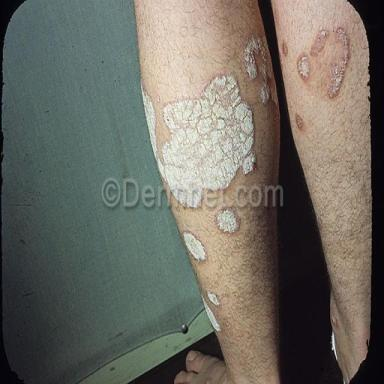Psoriasis: (143, 75, 256, 189), (244, 35, 270, 104), (327, 27, 349, 98), (202, 295, 221, 332), (215, 206, 240, 234), (183, 231, 206, 261), (311, 29, 329, 55), (297, 55, 310, 79), (207, 291, 221, 307), (296, 114, 303, 129), (282, 40, 288, 56)
